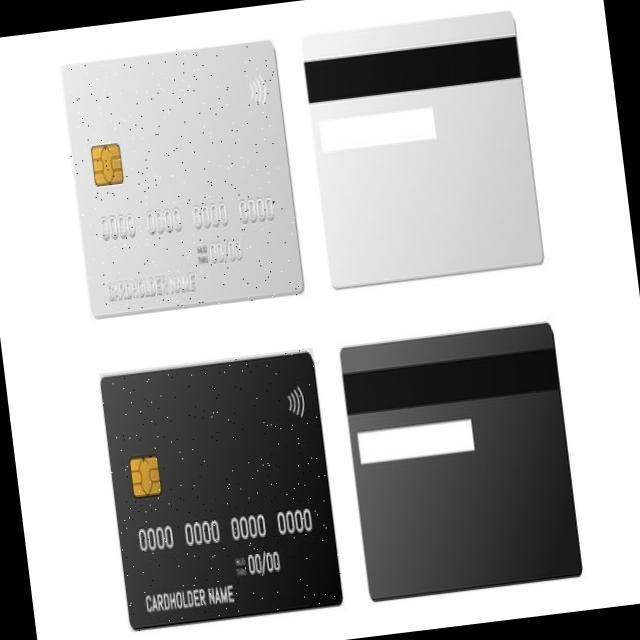payment_card: (59, 38, 304, 318), (99, 349, 342, 630)
